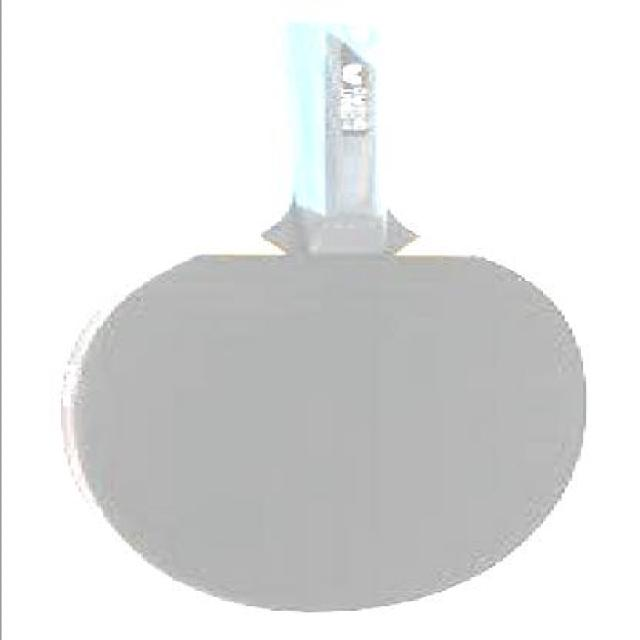table_tennis_racket: (49, 222, 593, 618)
